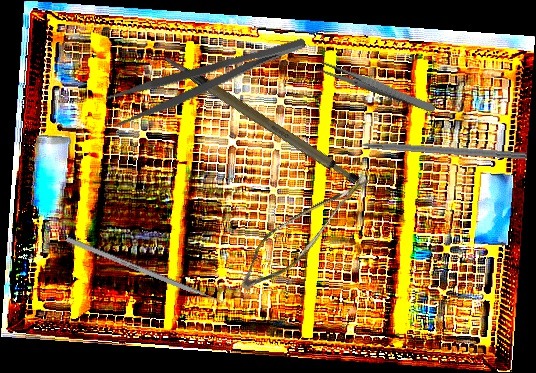Dressing Forceps: (105, 32, 313, 129), (315, 59, 438, 114)
Hook Surgical: (337, 137, 528, 160)
Micro Scissor: (232, 148, 372, 310)
Pusher: (65, 236, 236, 310)
Scalpel Handle: (163, 27, 362, 209)
